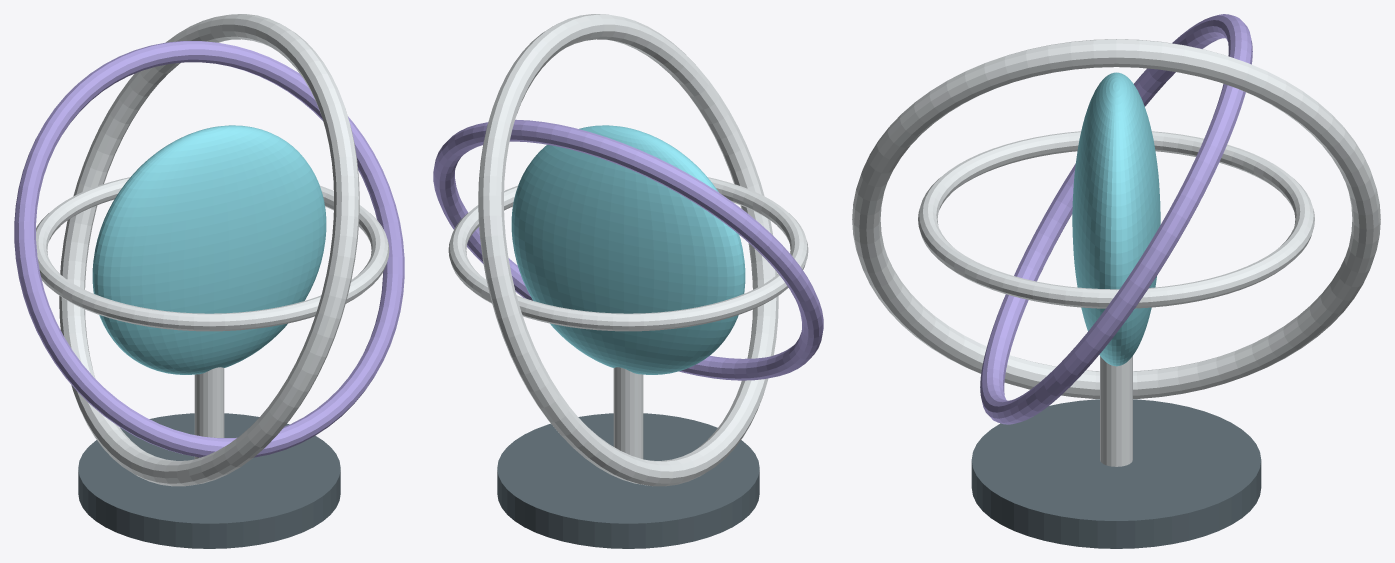
The model's file is nebula-lens.glb.
3 renders of one model, left to right at view 1: azimuth 30°, elevation 25°; view 2: azimuth 150°, elevation 25°; view 3: azimuth 270°, elevation 25°, orthographic. The views are drawn at different scales.
Visible parts, largest first — view 1: nebula-lens-0, nebula-lens-3, nebula-lens-2, nebula-lens-5, nebula-lens-1, nebula-lens-4; view 2: nebula-lens-0, nebula-lens-3, nebula-lens-5, nebula-lens-2, nebula-lens-1, nebula-lens-4; view 3: nebula-lens-3, nebula-lens-5, nebula-lens-2, nebula-lens-0, nebula-lens-1, nebula-lens-4.
Part boxes in pixels (left/top/right/bottom): nebula-lens-0: left=92, top=125, right=326, bottom=374; nebula-lens-3: left=59, top=14, right=359, bottom=486; nebula-lens-2: left=14, top=41, right=404, bottom=457; nebula-lens-5: left=78, top=413, right=340, bottom=548; nebula-lens-1: left=36, top=177, right=389, bottom=331; nebula-lens-4: left=194, top=367, right=224, bottom=458; nebula-lens-0: left=511, top=125, right=745, bottom=374; nebula-lens-3: left=478, top=14, right=778, bottom=486; nebula-lens-5: left=497, top=413, right=759, bottom=548; nebula-lens-2: left=433, top=119, right=823, bottom=380; nebula-lens-1: left=448, top=177, right=808, bottom=331; nebula-lens-4: left=613, top=367, right=643, bottom=458; nebula-lens-3: left=852, top=39, right=1380, bottom=398; nebula-lens-5: left=971, top=399, right=1261, bottom=548; nebula-lens-2: left=980, top=14, right=1252, bottom=424; nebula-lens-0: left=1072, top=72, right=1160, bottom=366; nebula-lens-1: left=918, top=131, right=1314, bottom=308; nebula-lens-4: left=1100, top=356, right=1132, bottom=466.
Size of the model in its own units: 2.15 by 2.46 by 2.41.
